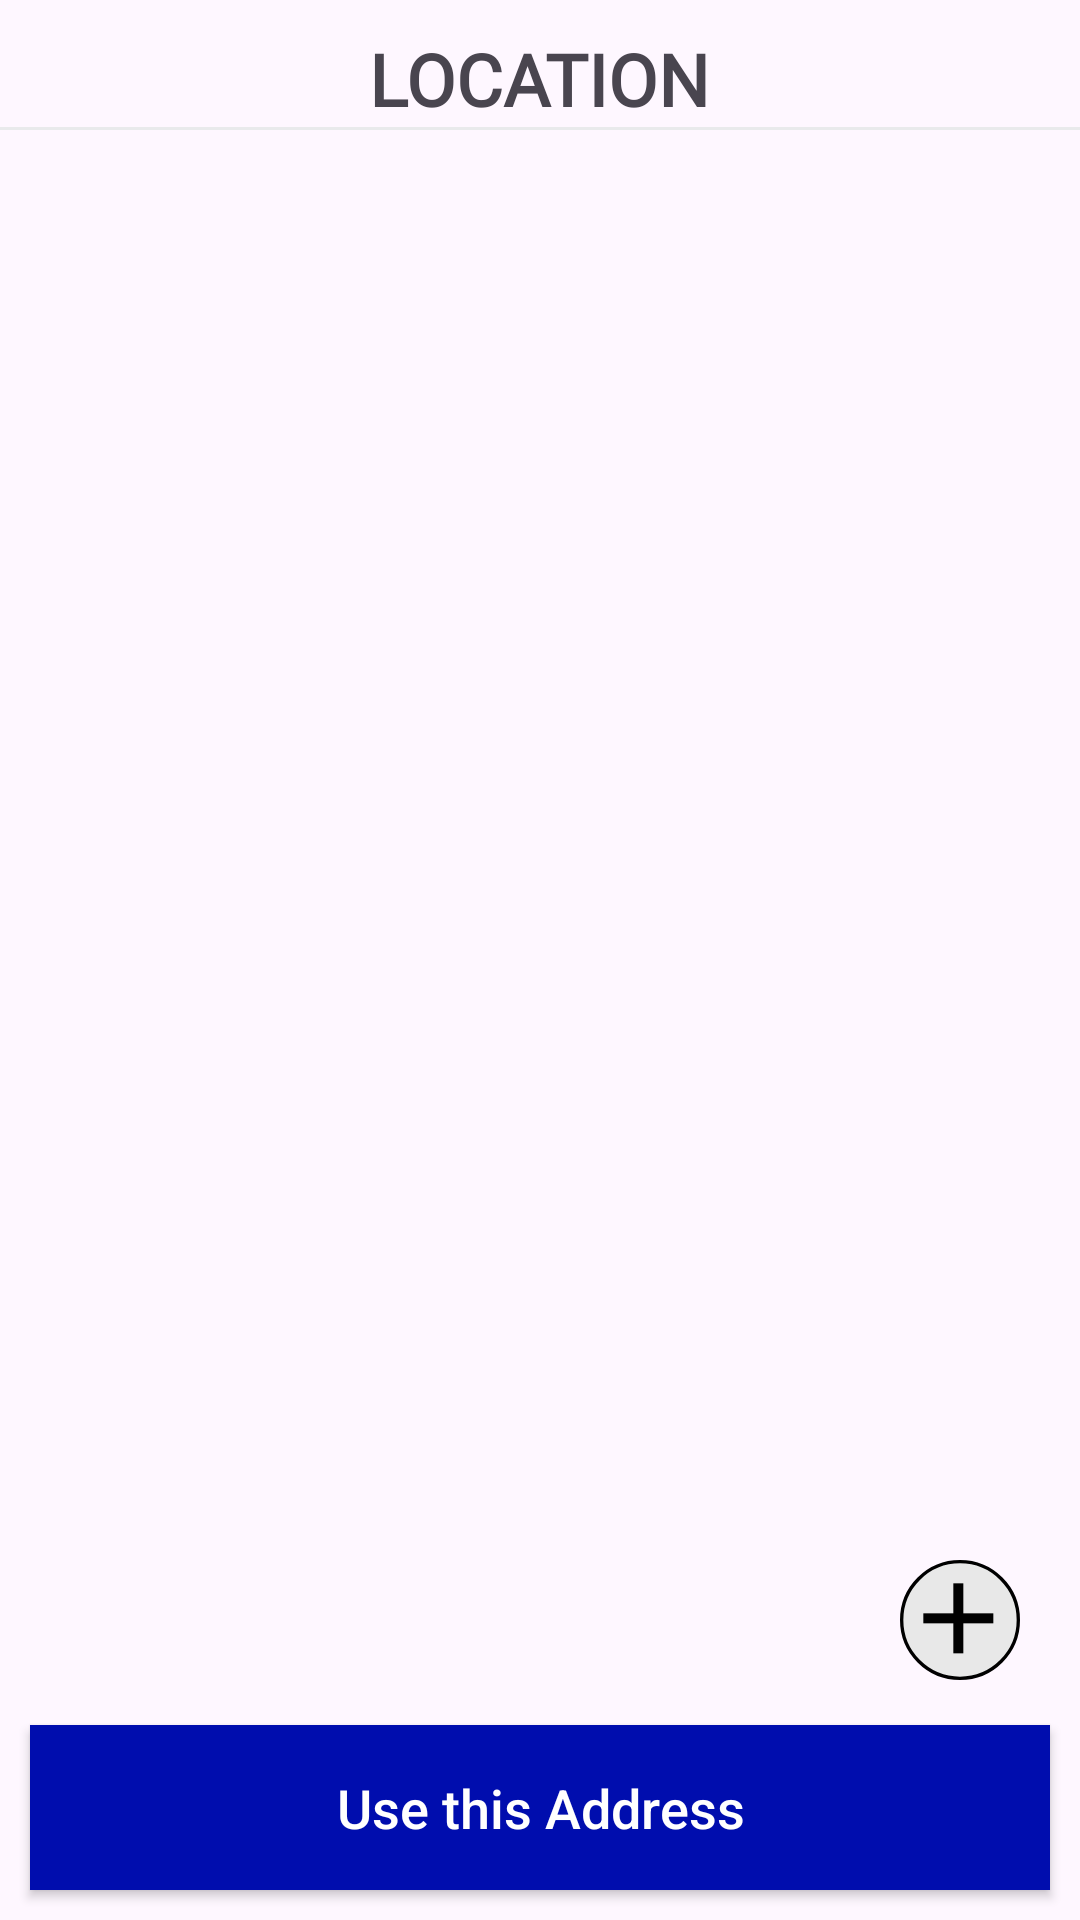

Screen size 1080 x 1920. Icon name, then its box in pixels as (x1, y1, x2, y2):
address add: (900, 1560, 1020, 1680)
